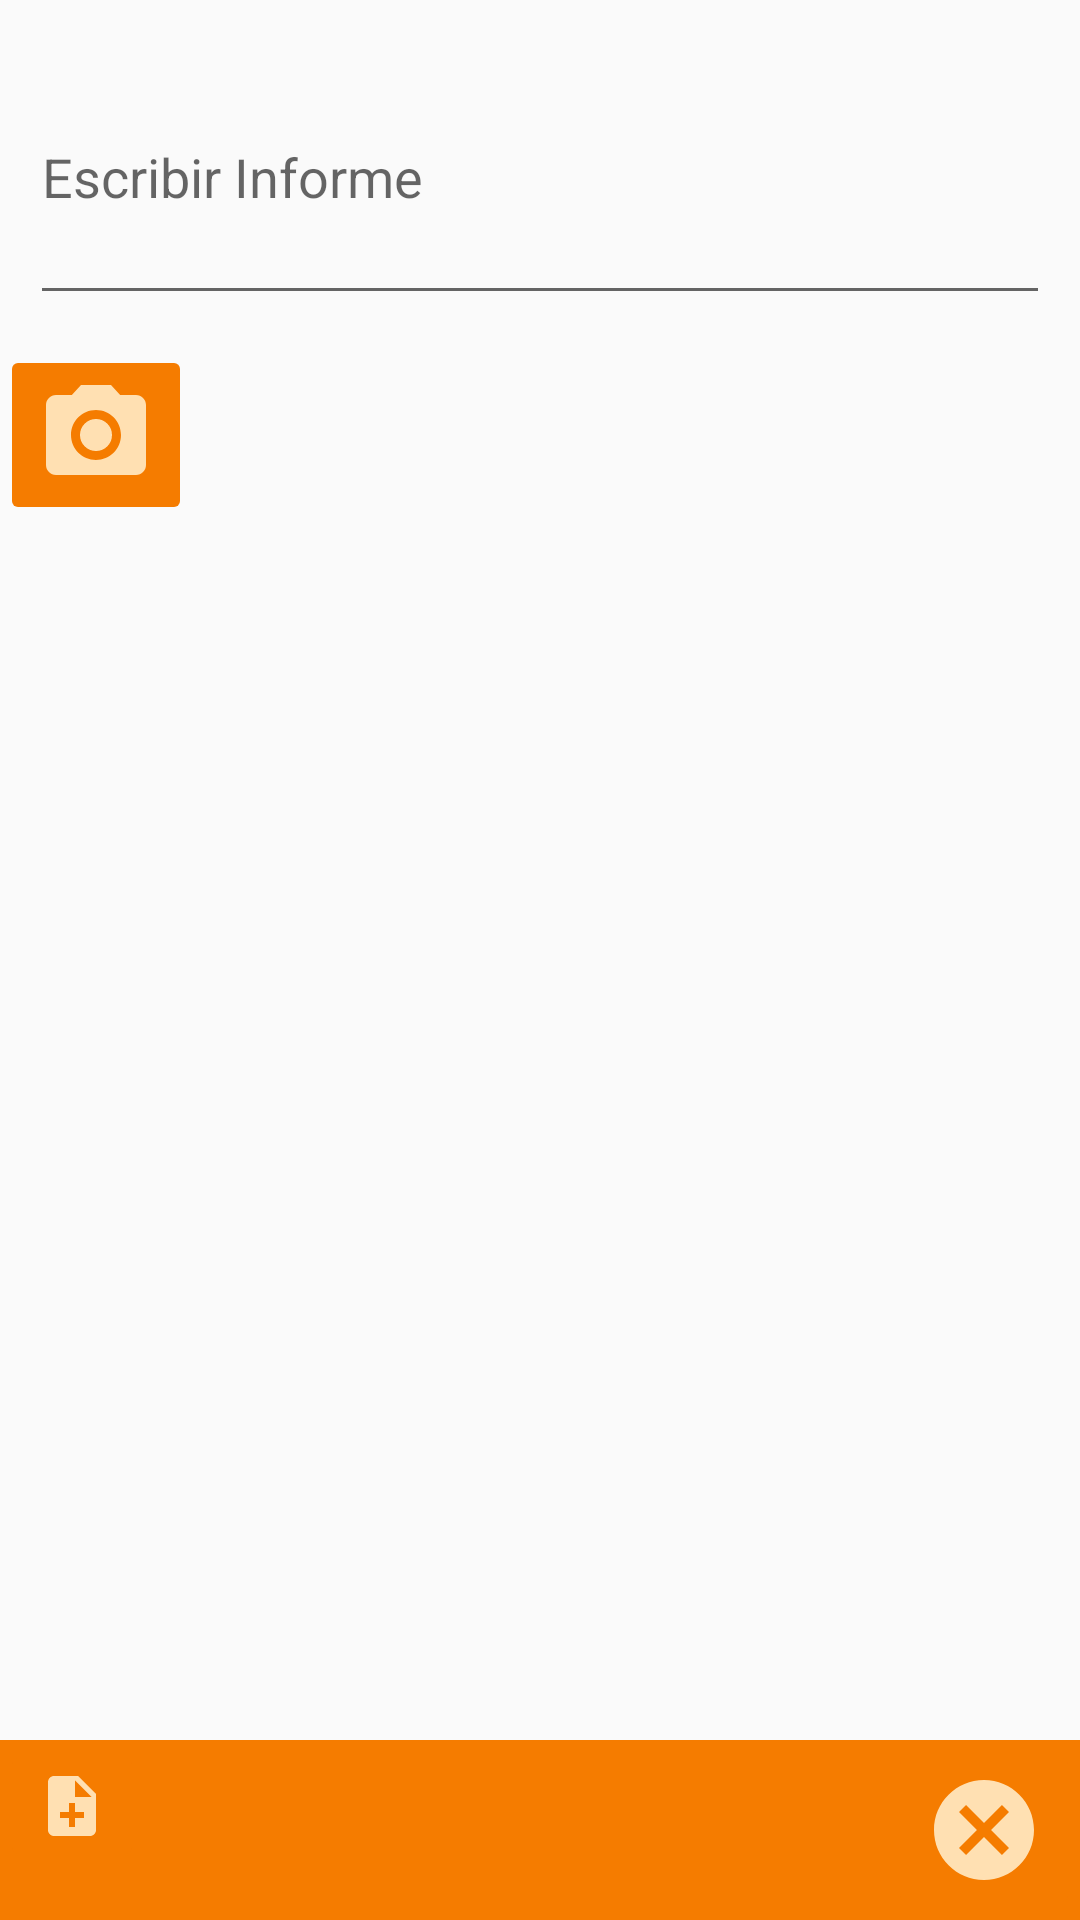

Named icons in this screenshot (1080px×1920px) and their bounding boxes, (x1, y1, x2, y2):
cancel: (934, 1780, 1034, 1880)
note add: (48, 1776, 96, 1836)
photo camera: (12, 363, 180, 507)
